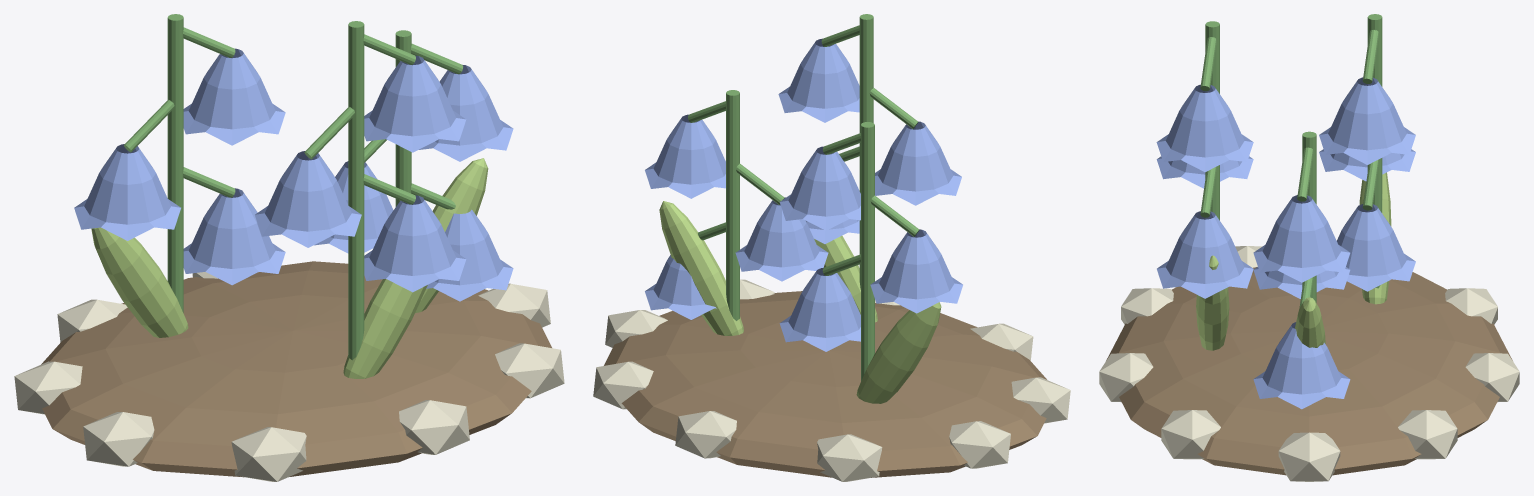
File: Bluebell.fbx
3 views of the same model, side by side, from view 1: azimuth 30°, elevation 25°; view 2: azimuth 150°, elevation 25°; view 3: azimuth 270°, elevation 25° (orthographic). The views are drawn at different scales.
Visible parts, largest first — view 1: Oval garden bed.003, Scalloped blue bell.007, Scalloped blue bell.004, Scalloped blue bell.003, Scalloped blue bell.006, Scalloped blue bell.008, Scalloped blue bell.005, Upright stem leaf.016, Bluebell stalk.002, Bluebell stalk.001, Scalloped blue bell, Upright stem leaf.017 (+18 smaller); view 2: Oval garden bed.003, Scalloped blue bell.004, Scalloped blue bell.007, Scalloped blue bell.006, Scalloped blue bell.003, Scalloped blue bell.005, Scalloped blue bell, Scalloped blue bell.001, Upright stem leaf.015, Upright stem leaf.016, Bluebell stalk.001, Bluebell stalk (+14 smaller); view 3: Oval garden bed.003, Scalloped blue bell, Scalloped blue bell.006, Scalloped blue bell.003, Scalloped blue bell.008, Scalloped blue bell.002, Scalloped blue bell.005, Bed edging pebble.027, Bed edging pebble.028, Bed edging pebble.035, Upright stem leaf.017, Bed edging pebble.029 (+16 smaller).
Part boxes in pixels (<box>): Oval garden bed.003: <box>41,261,551,477</box>; Scalloped blue bell.007: <box>255,151,361,247</box>; Scalloped blue bell.004: <box>74,144,180,240</box>; Scalloped blue bell.003: <box>183,48,285,145</box>; Scalloped blue bell.006: <box>364,55,466,152</box>; Scalloped blue bell.008: <box>364,195,466,292</box>; Scalloped blue bell.005: <box>183,188,285,285</box>; Upright stem leaf.016: <box>91,227,188,337</box>; Bluebell stalk.002: <box>348,21,364,360</box>; Bluebell stalk.001: <box>167,14,183,312</box>; Scalloped blue bell: <box>419,65,513,161</box>; Upright stem leaf.017: <box>343,279,427,378</box>; Oval garden bed.003: <box>604,291,1046,477</box>; Scalloped blue bell.004: <box>870,229,962,313</box>; Scalloped blue bell.007: <box>875,121,961,205</box>; Scalloped blue bell.006: <box>778,38,859,122</box>; Scalloped blue bell.003: <box>779,146,860,230</box>; Scalloped blue bell.005: <box>779,268,860,351</box>; Scalloped blue bell: <box>645,114,725,198</box>; Scalloped blue bell.001: <box>735,197,828,281</box>; Upright stem leaf.015: <box>659,201,743,335</box>; Upright stem leaf.016: <box>856,302,941,403</box>; Bluebell stalk.001: <box>861,122,874,381</box>; Bluebell stalk: <box>726,90,739,320</box>; Oval garden bed.003: <box>1106,267,1512,475</box>; Scalloped blue bell: <box>1253,195,1350,282</box>; Scalloped blue bell.006: <box>1156,84,1253,172</box>; Scalloped blue bell.003: <box>1319,77,1415,164</box>; Scalloped blue bell.008: <box>1157,211,1253,298</box>; Scalloped blue bell.002: <box>1253,322,1350,409</box>; Scalloped blue bell.005: <box>1337,204,1415,291</box>; Bed edging pebble.027: <box>1278,432,1340,481</box>; Bed edging pebble.028: <box>1398,410,1457,459</box>; Bed edging pebble.035: <box>1161,410,1220,459</box>; Upright stem leaf.017: <box>1196,255,1229,350</box>; Bed edging pebble.029: <box>1465,353,1519,402</box>.
Size of the model in its own units: 171 by 139 by 139.
